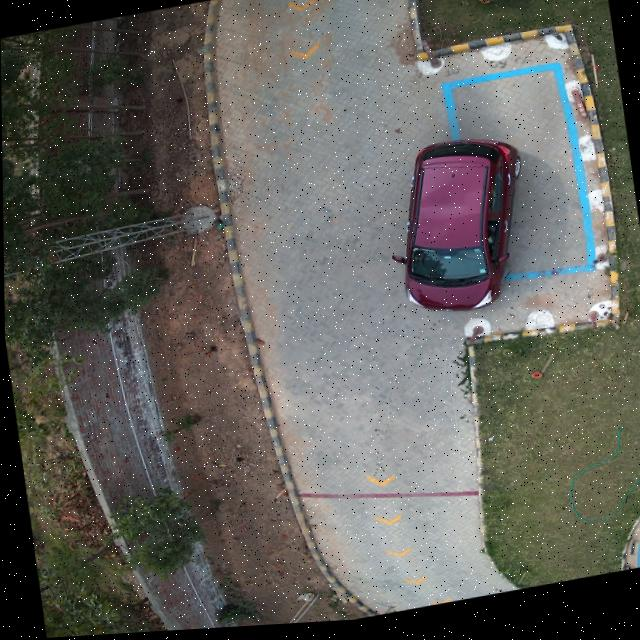car: (390, 143, 520, 316)
